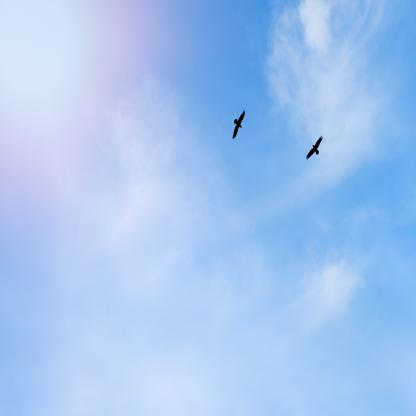bird: (306, 136, 323, 162), (232, 109, 246, 139)
